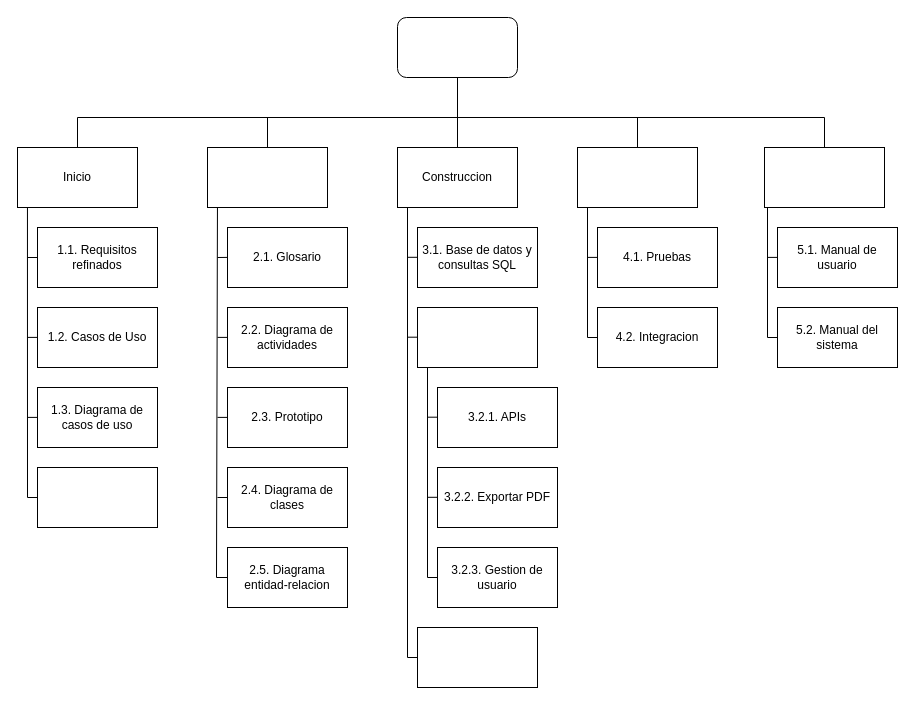
Some shapes in this 915 by 705 pixel diagram are drawn without their labels. The box of each missing label's shape, as (x1, y1, x2, y2) in pixels:
1.4. Matriz de trazabilidad: (36, 466, 158, 528)
3.2. Backend: (416, 306, 538, 368)
3.3. FrontEnd: (416, 626, 538, 688)
Analisis del sistema: (206, 146, 328, 208)
Despliegue: (576, 146, 698, 208)
Documentacion: (764, 146, 884, 208)
TripPlanner: (396, 16, 518, 78)
